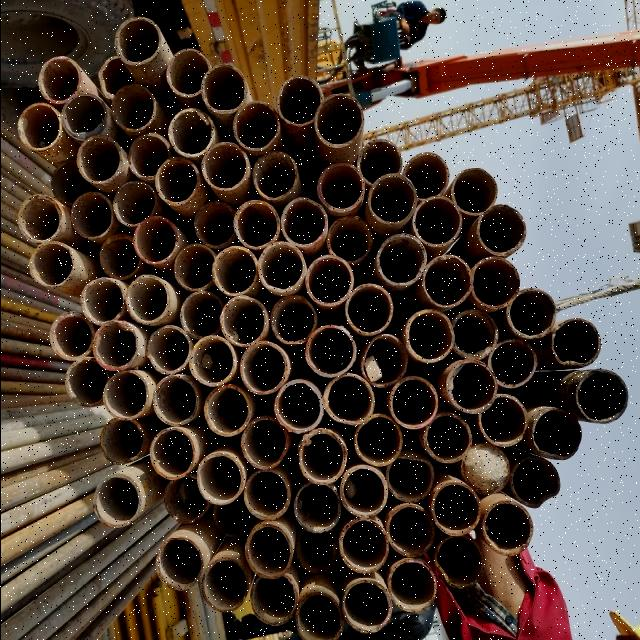pipe: (572, 366, 628, 428), (154, 535, 208, 595), (507, 284, 559, 344), (316, 83, 364, 145), (202, 556, 248, 620), (550, 314, 602, 370), (528, 404, 580, 460), (91, 474, 143, 530), (114, 11, 165, 68), (445, 358, 495, 416), (433, 477, 482, 536), (490, 334, 539, 392), (484, 500, 536, 554), (304, 326, 358, 378), (273, 378, 324, 433), (152, 372, 203, 427), (476, 201, 526, 257), (386, 501, 436, 557), (387, 556, 437, 612), (368, 172, 418, 228), (220, 294, 270, 350), (300, 426, 348, 484), (342, 516, 389, 574), (353, 415, 405, 467), (481, 393, 531, 447), (422, 414, 476, 464), (424, 253, 474, 307), (391, 376, 441, 430), (378, 232, 428, 286), (326, 372, 376, 426), (244, 524, 294, 578), (241, 341, 291, 395), (470, 256, 518, 312), (437, 538, 485, 594), (342, 578, 390, 634), (196, 450, 244, 506), (190, 332, 238, 388), (232, 95, 278, 153), (160, 476, 213, 526), (361, 331, 407, 388), (407, 143, 452, 201), (461, 447, 513, 497), (412, 195, 462, 247), (346, 284, 396, 336), (340, 464, 390, 516), (306, 254, 356, 306), (200, 141, 250, 193), (90, 322, 142, 372), (452, 163, 500, 217), (318, 161, 366, 215), (280, 196, 328, 250), (254, 144, 298, 202), (512, 458, 564, 506), (280, 77, 326, 131), (252, 576, 298, 630), (70, 188, 116, 242), (94, 420, 150, 464), (212, 243, 258, 296), (362, 132, 405, 188), (406, 310, 454, 360), (384, 455, 434, 503), (292, 484, 340, 534), (258, 243, 306, 293), (270, 294, 318, 344), (242, 470, 290, 520), (234, 198, 282, 248), (201, 64, 249, 114), (149, 428, 197, 478), (453, 310, 499, 362), (16, 190, 62, 242), (298, 586, 342, 640), (64, 354, 108, 408), (50, 154, 94, 208), (193, 198, 240, 248), (147, 324, 192, 376), (102, 371, 150, 419), (326, 216, 376, 262), (203, 388, 249, 438), (133, 216, 179, 266), (96, 229, 142, 279), (18, 104, 64, 154), (112, 84, 156, 136), (112, 178, 156, 230), (64, 89, 108, 141), (50, 308, 94, 360), (179, 291, 224, 341), (240, 419, 286, 467), (156, 157, 202, 205), (168, 48, 210, 100), (175, 242, 218, 292), (171, 107, 214, 157), (74, 140, 120, 186), (80, 274, 124, 322), (28, 244, 76, 288), (38, 56, 82, 104), (128, 273, 168, 323), (297, 528, 338, 574), (130, 133, 168, 181), (98, 50, 134, 100), (212, 497, 248, 542)
